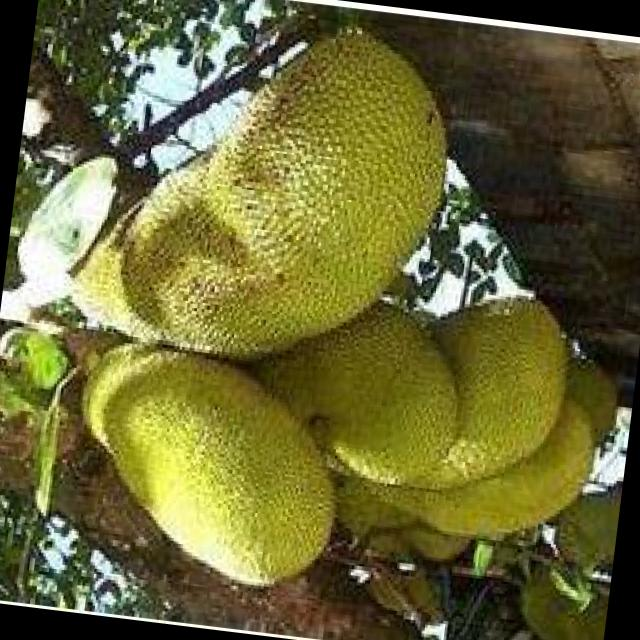Fruit: (76, 0, 483, 405), (239, 228, 626, 552), (24, 318, 370, 608)
